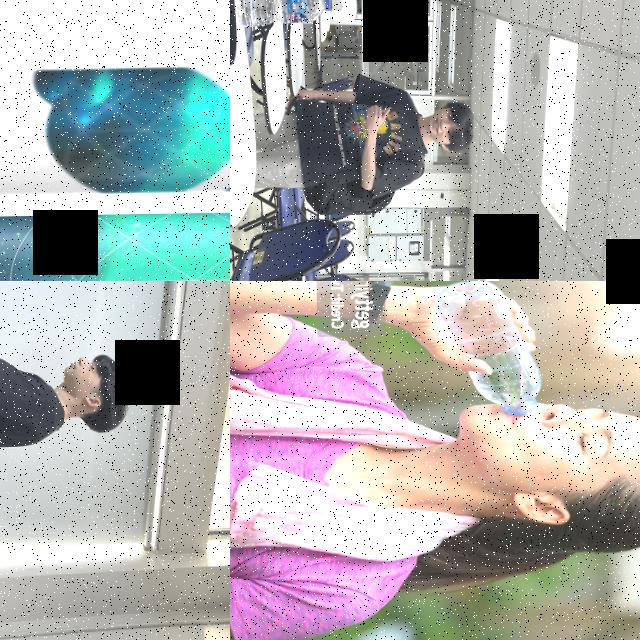bottle: (429, 281, 543, 419), (233, 0, 329, 28)
can: (0, 64, 230, 198), (0, 208, 230, 281)
